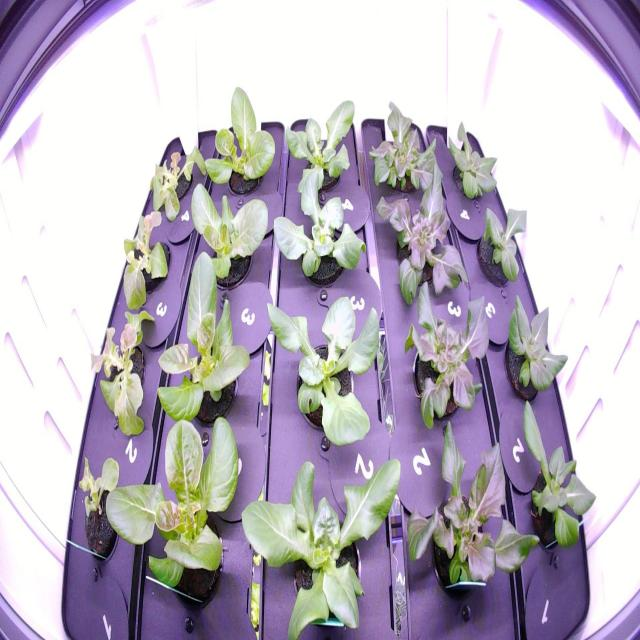young: (230, 424, 408, 639), (98, 387, 253, 616), (393, 417, 546, 601), (255, 276, 390, 468), (150, 238, 266, 442), (510, 395, 604, 574), (260, 152, 371, 295), (396, 274, 496, 432), (179, 168, 282, 319), (372, 157, 472, 310), (276, 84, 370, 214), (198, 74, 285, 210), (493, 276, 572, 412), (87, 302, 158, 447), (360, 96, 442, 195), (468, 192, 534, 298), (71, 448, 126, 574), (439, 109, 505, 212), (138, 132, 212, 222), (117, 206, 173, 320)
